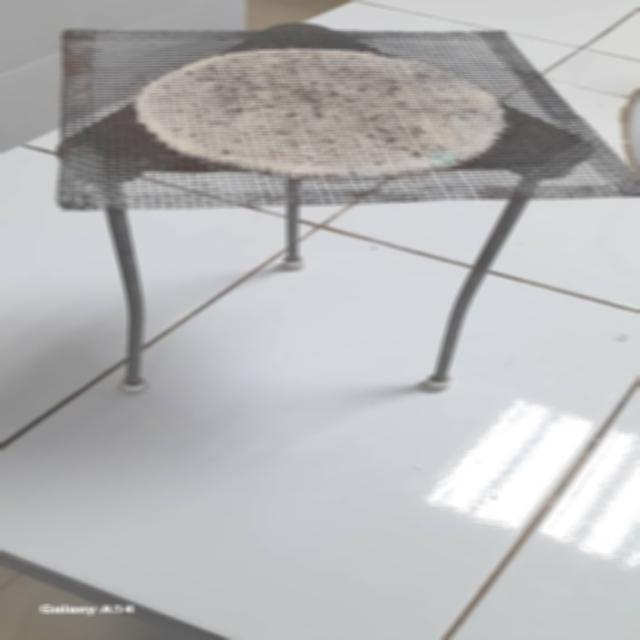Stand: (28, 17, 572, 399)
